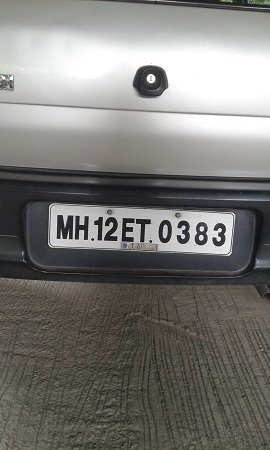licenseplate: (47, 198, 233, 258)
